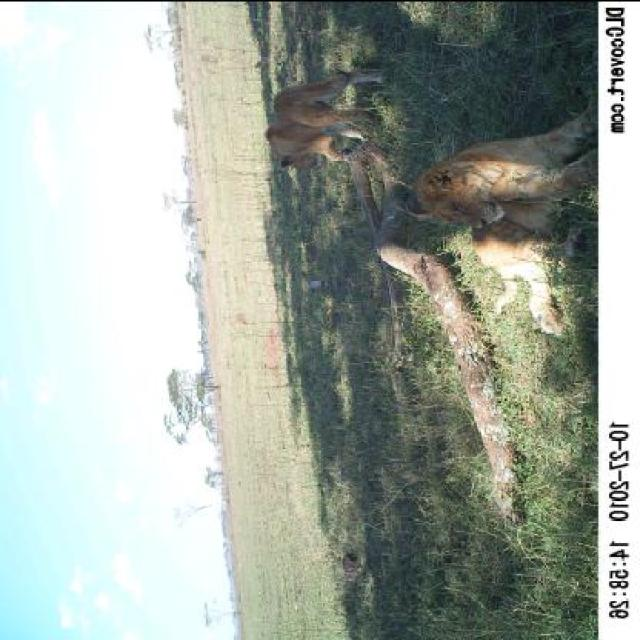Lion: (408, 102, 604, 350), (254, 46, 386, 194)
